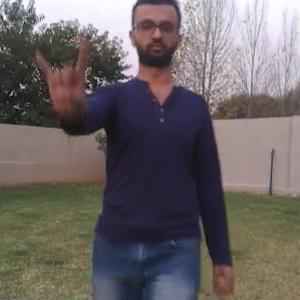takeoff-hand: (31, 42, 93, 120)
